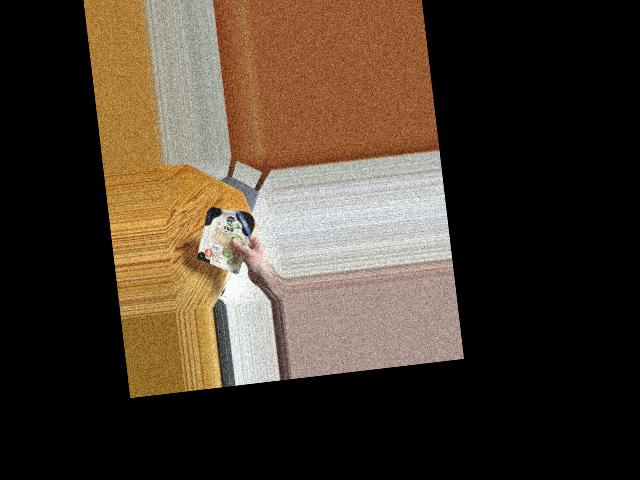cheese: (193, 199, 256, 266)
